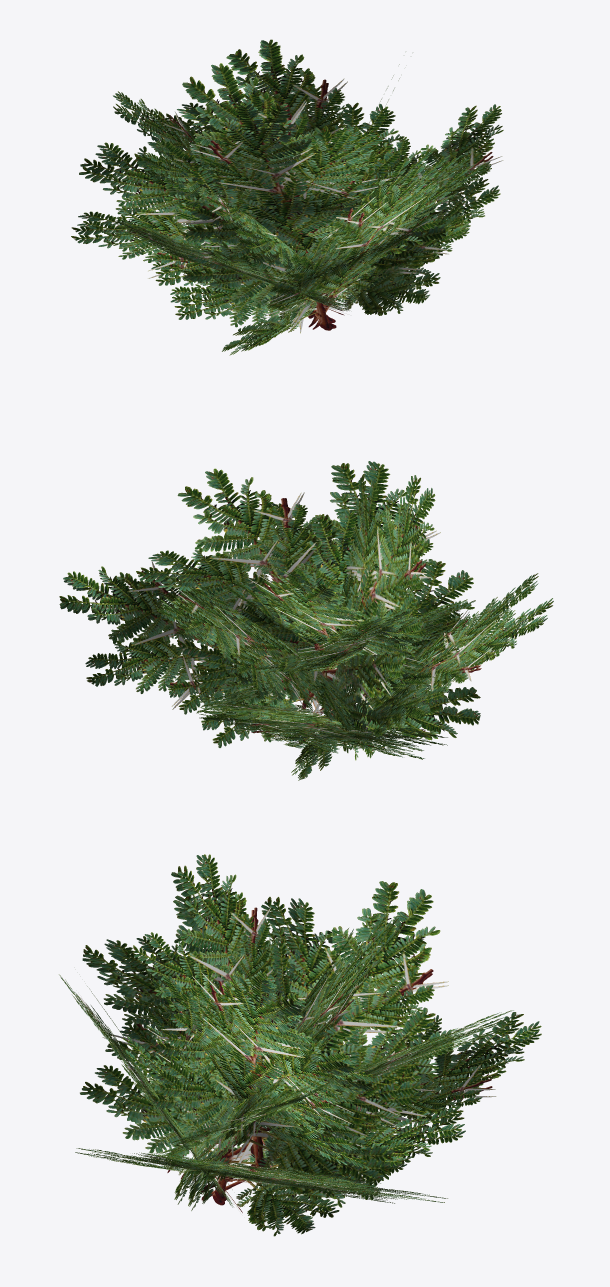
The model's file is acacia_bush_small_1.glb.
The picture shows the model from 3 angles, top to bottom: view 1: azimuth 30°, elevation 25°; view 2: azimuth 150°, elevation 25°; view 3: azimuth 270°, elevation 25°; orthographic projection. The views are drawn at different scales.
Visible parts, largest first — view 1: acacia_bush_small_1; view 2: acacia_bush_small_1; view 3: acacia_bush_small_1.
Part boxes in pixels (x1,y1,x2,y2): acacia_bush_small_1: [71, 39, 503, 355]; acacia_bush_small_1: [59, 461, 553, 780]; acacia_bush_small_1: [59, 854, 541, 1236].
Bounding box in the file's own units: 7.65 × 4.67 × 6.96.
Materials: 1 (1 with a texture image).
